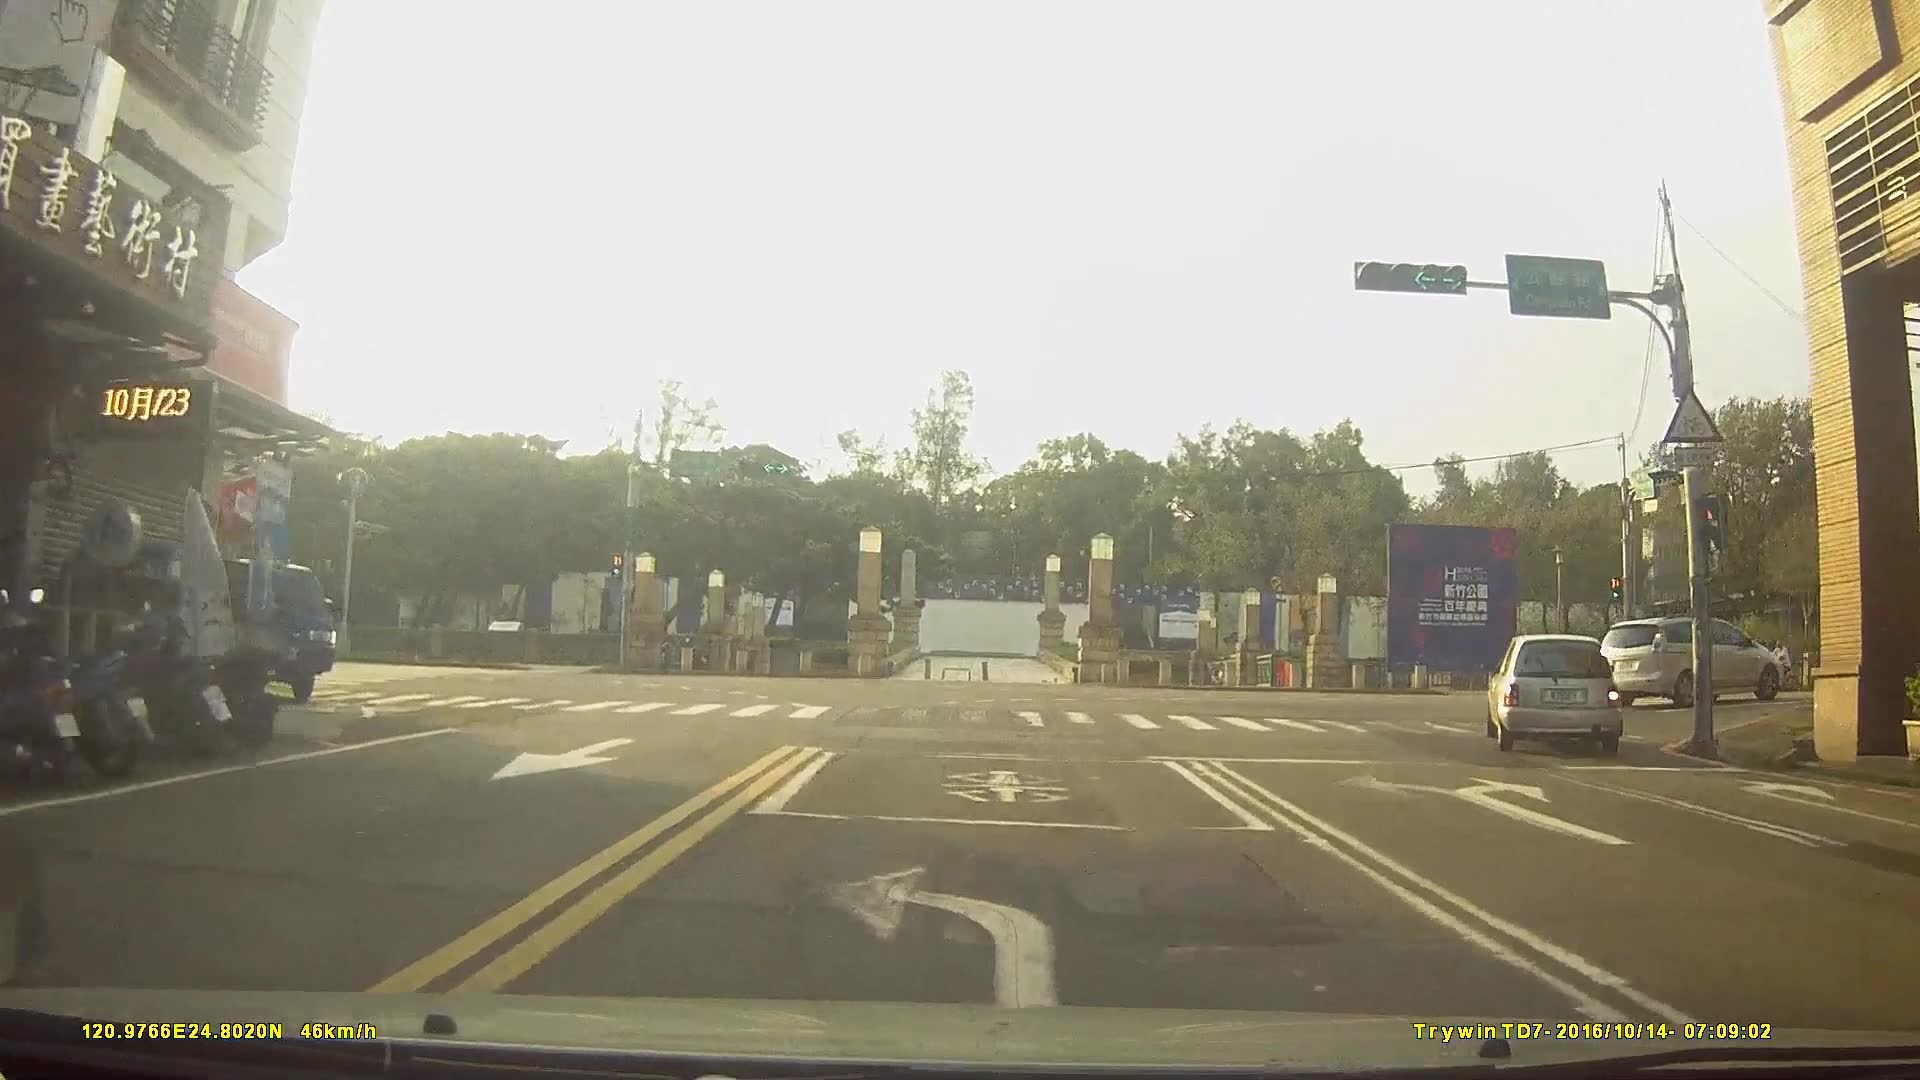vehicle: (204, 554, 335, 702), (1484, 628, 1625, 753), (1598, 612, 1782, 705)
